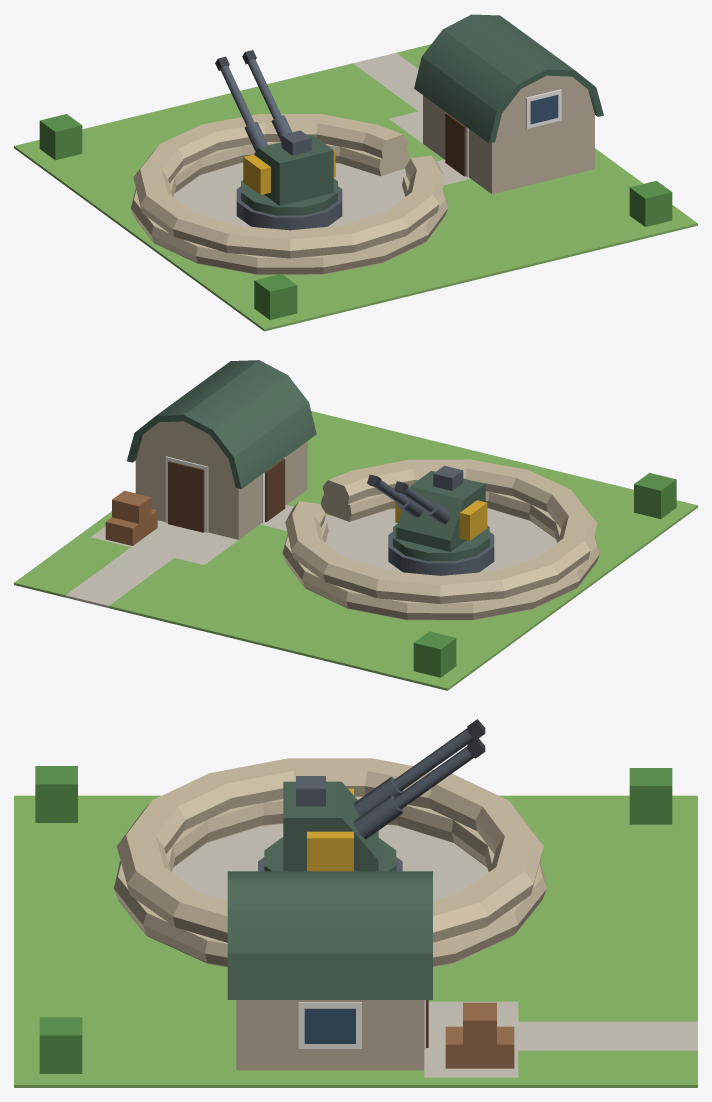
File: antiair.glb
The picture shows the model from 3 angles, top to bottom: view 1: azimuth 30°, elevation 25°; view 2: azimuth 150°, elevation 25°; view 3: azimuth 270°, elevation 25°; orthographic projection. The views are drawn at different scales.
Visible parts, largest first — view 1: lawn, sandbags (×2), roof, ammo_hut, floor, turret, tree_spot (×3), ammo_hut_gable, path, gun_mount, barrel (×2), door (+4 smaller); view 2: lawn, sandbags (×2), roof, floor, path, ammo_hut, turret, door (×2), ammo_hut_gable, tree_spot (×2), crate (×2), gun_mount (+4 smaller); view 3: lawn, sandbags (×2), roof, ammo_hut, path, floor, tree_spot (×3), turret, barrel (×2), crate (×3), ammo_box, window_glass (+2 smaller).
Boxes of the visible parts, x1,y1,x2,y2 form: lawn: (14,44,697,331); sandbags (×2): (130,114,448,274); roof: (414,14,603,143); ammo_hut: (423,95,594,194); floor: (174,159,470,226); turret: (241,134,337,215); tree_spot (×3): (39,114,672,319); ammo_hut_gable: (496,75,594,138); path: (353,53,422,143); gun_mount: (236,186,342,230); barrel (×2): (220,58,291,151); door: (445,113,465,176); lawn: (14,411,697,690); sandbags (×2): (282,459,599,620); roof: (127,360,316,488); floor: (260,505,556,572); path: (65,520,238,607); ammo_hut: (135,441,307,539); turret: (393,471,489,561); door (×2): (168,458,285,532); ammo_hut_gable: (136,421,234,484); tree_spot (×2): (413,473,676,677); crate (×2): (105,490,151,545); gun_mount: (388,532,494,575); lawn: (14,795,697,1087); sandbags (×2): (113,758,546,967); roof: (227,871,432,999); ammo_hut: (236,1000,424,1070); path: (424,1001,697,1077); floor: (172,824,488,901); tree_spot (×3): (35,766,672,1073); turret: (264,781,396,871); barrel (×2): (354,728,474,839); crate (×3): (445,1002,514,1068); ammo_box: (307,831,353,871); window_glass: (304,1008,355,1043).
Size of the model in its own units: 16 by 4.18 by 16.
